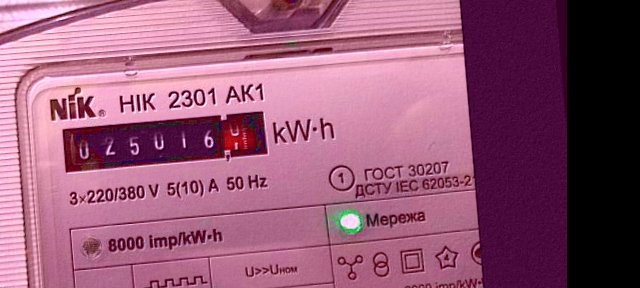0: (152, 128, 167, 152), (76, 138, 91, 161), (227, 116, 240, 137)
1: (176, 125, 189, 151), (231, 140, 240, 151)
2: (102, 133, 117, 157)
5: (127, 134, 140, 156)
6: (201, 126, 216, 152)
screen: (51, 101, 278, 180)
